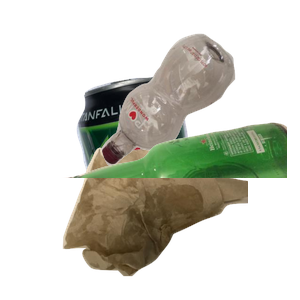glass: (60, 120, 300, 300)
metal: (74, 74, 257, 254)
plastic: (99, 31, 300, 189)
trash: (60, 142, 300, 300)
